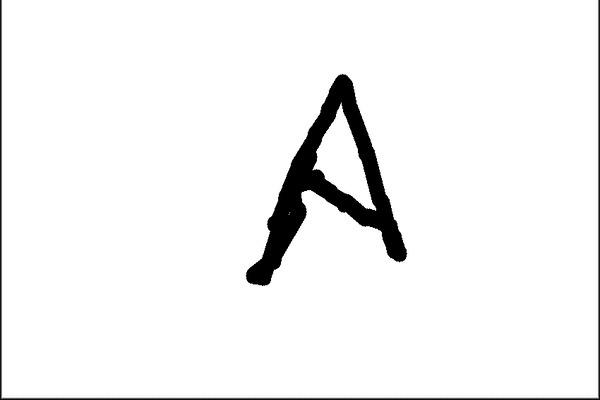A: (228, 64, 428, 285)
